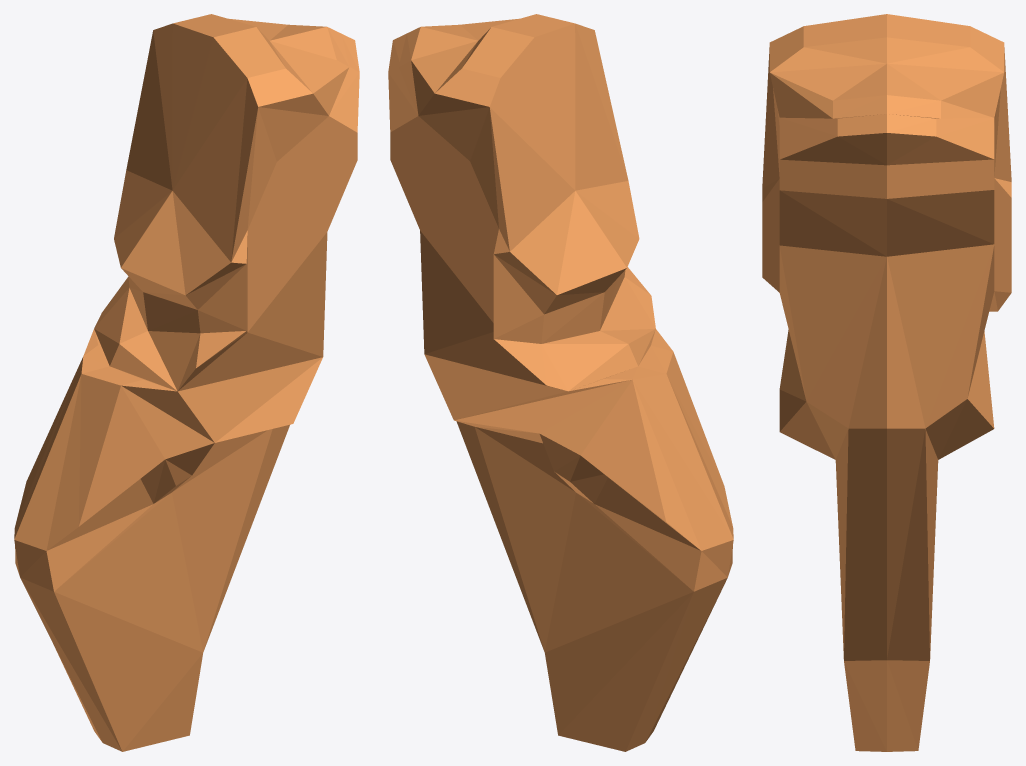
Rendered from Rock_Large_Canyon_Eroded_06.FBX.
The picture shows the model from 3 angles, left to right: view 1: azimuth 30°, elevation 25°; view 2: azimuth 150°, elevation 25°; view 3: azimuth 270°, elevation 25°; orthographic projection. The views are drawn at different scales.
Visible parts, largest first — view 1: Rock_Large_Canyon_Eroded_06; view 2: Rock_Large_Canyon_Eroded_06; view 3: Rock_Large_Canyon_Eroded_06.
Part boxes in pixels (box(x1,y1,x2,y2)): Rock_Large_Canyon_Eroded_06: box(14, 14, 359, 751); Rock_Large_Canyon_Eroded_06: box(388, 14, 733, 751); Rock_Large_Canyon_Eroded_06: box(762, 14, 1011, 751).
Bounding box in the file's own units: 6494 × 12357 × 3689.
